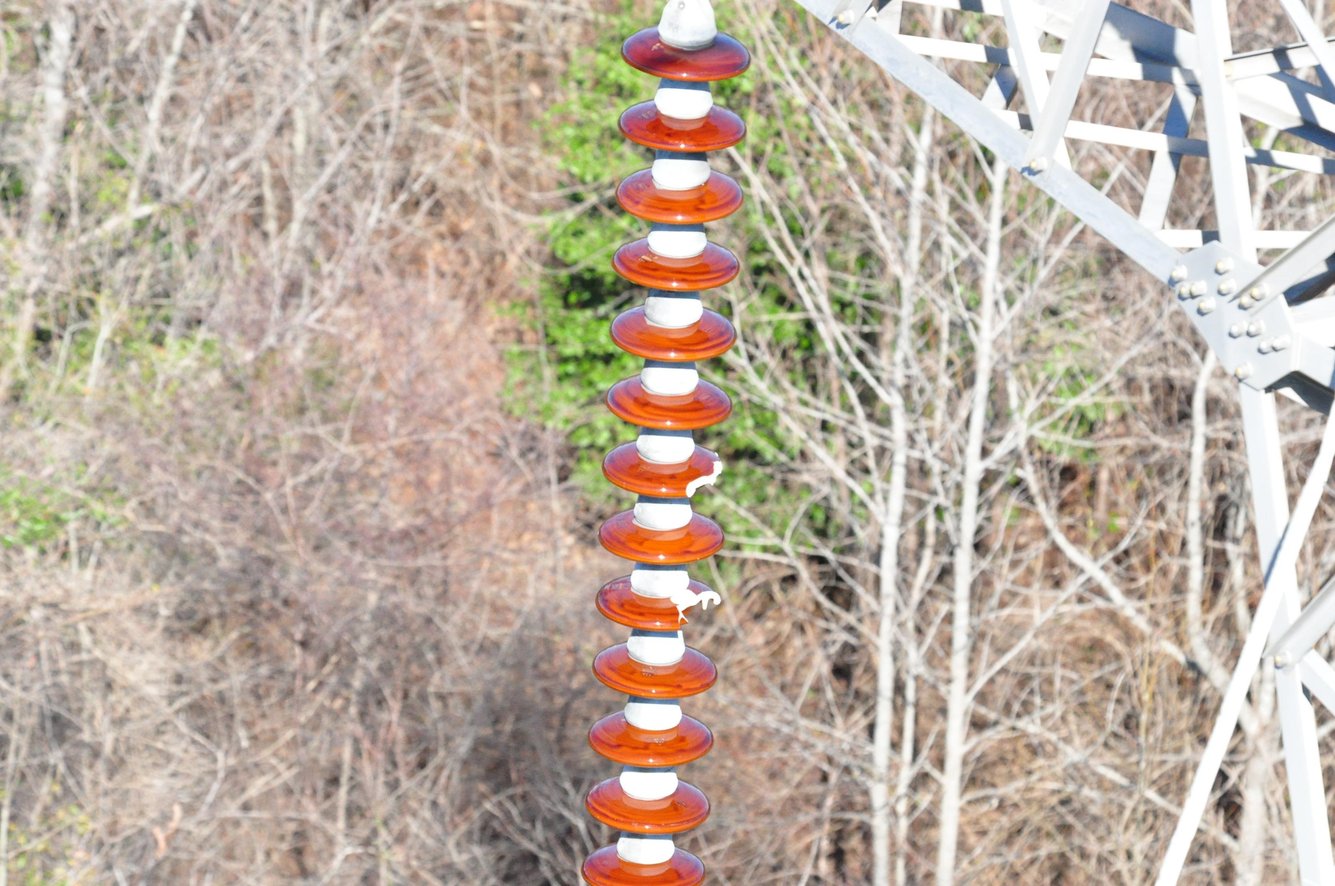damaged: (676, 444, 725, 502), (673, 582, 722, 628)
insulator: (580, 32, 749, 886)
